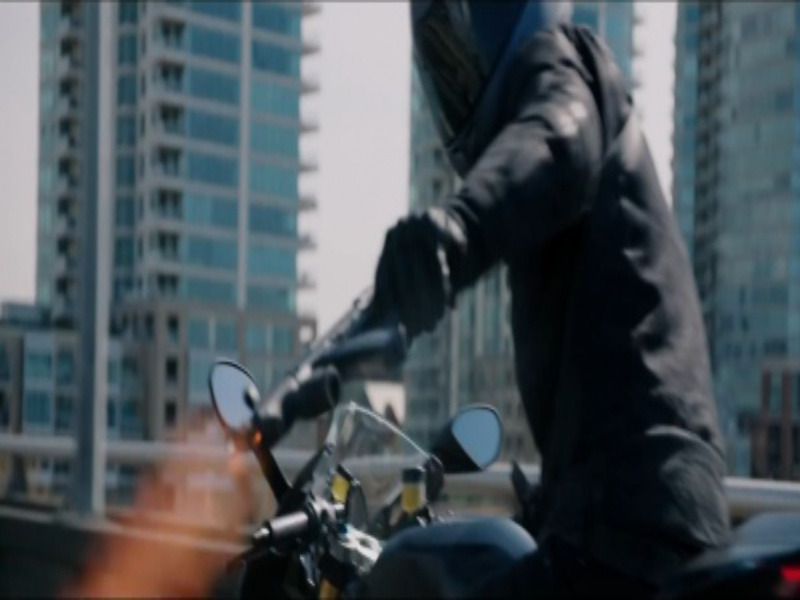person: (367, 1, 730, 596)
weapon: (249, 280, 402, 448)
